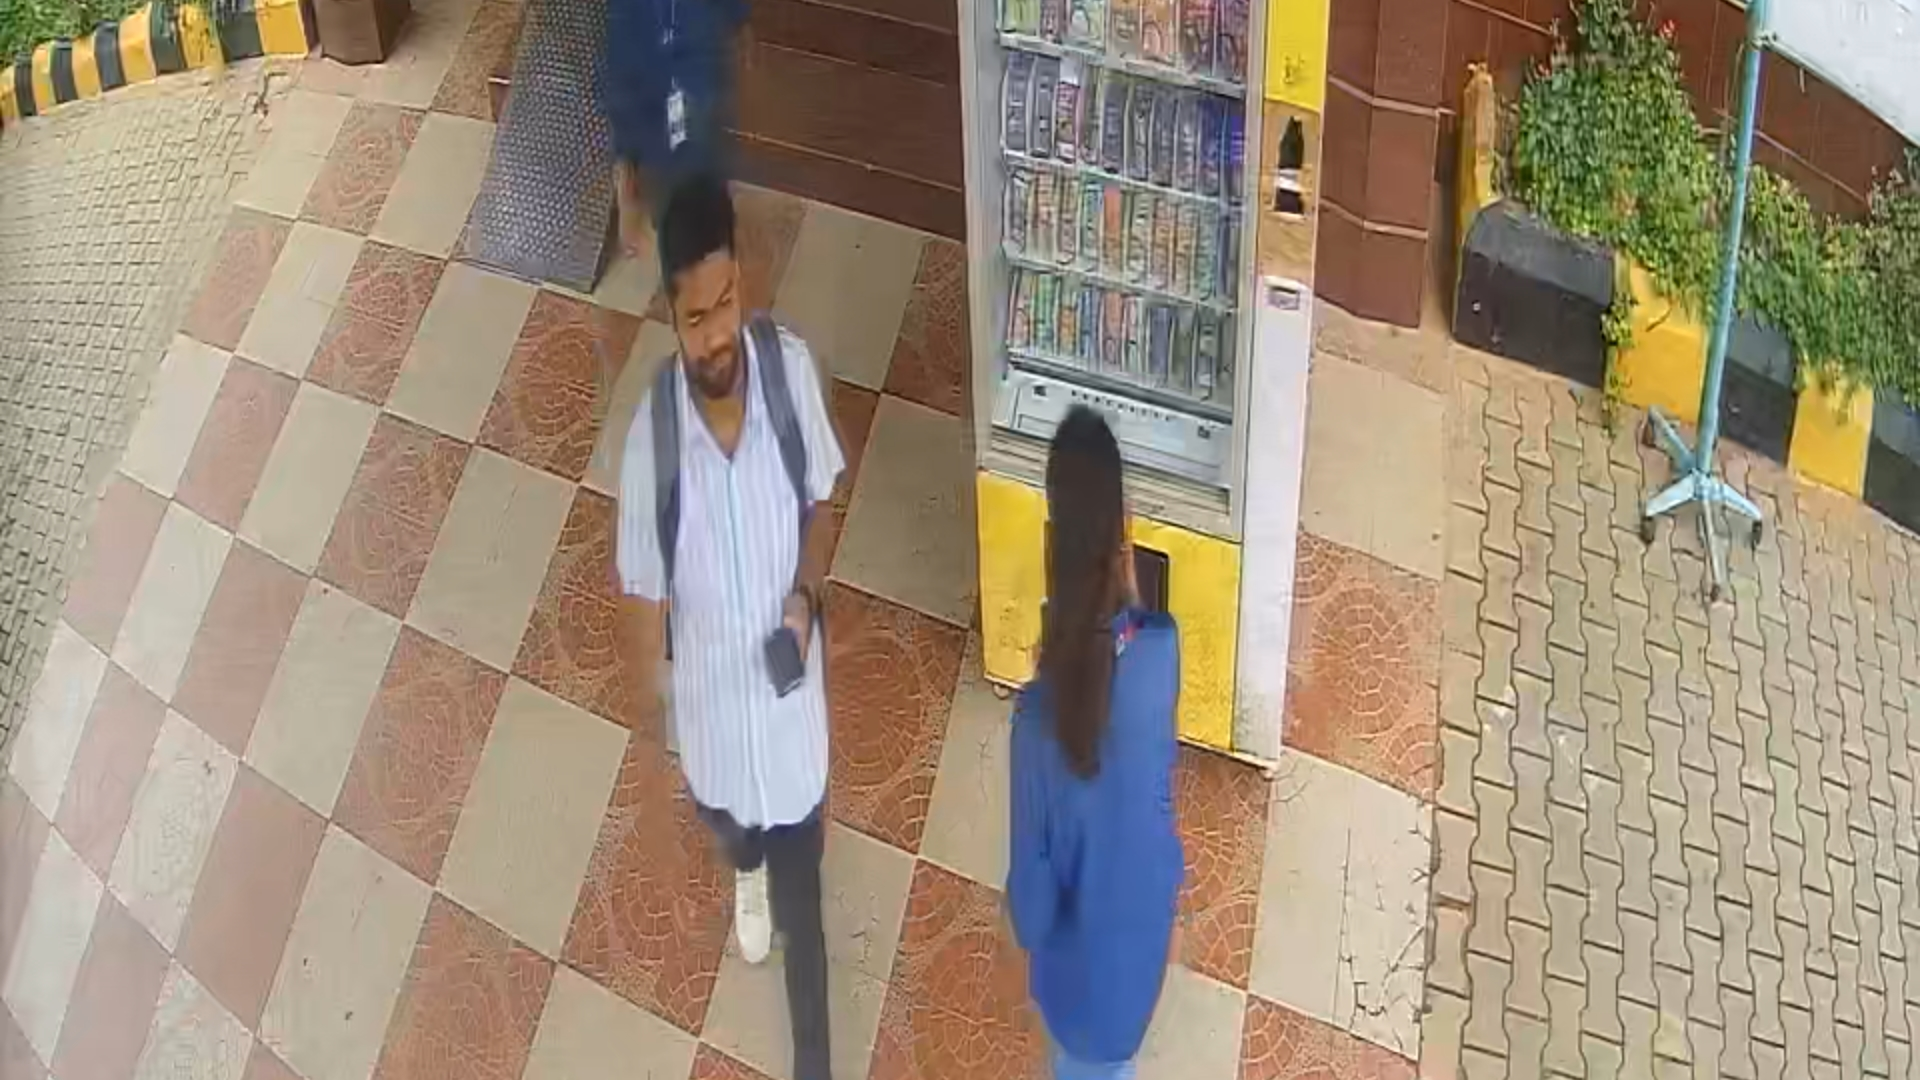intruder: (605, 182, 873, 1080)
